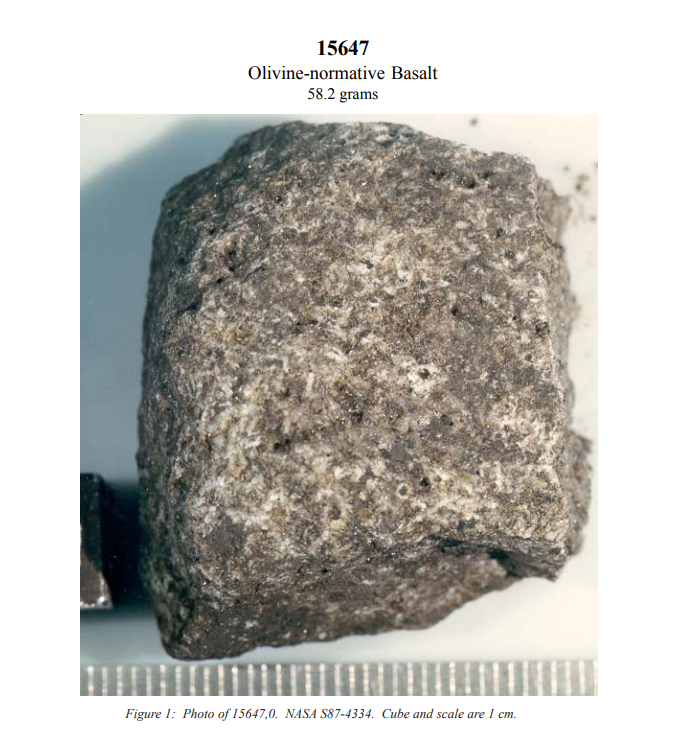Basalt: (113, 120, 596, 661), (165, 174, 546, 536)
